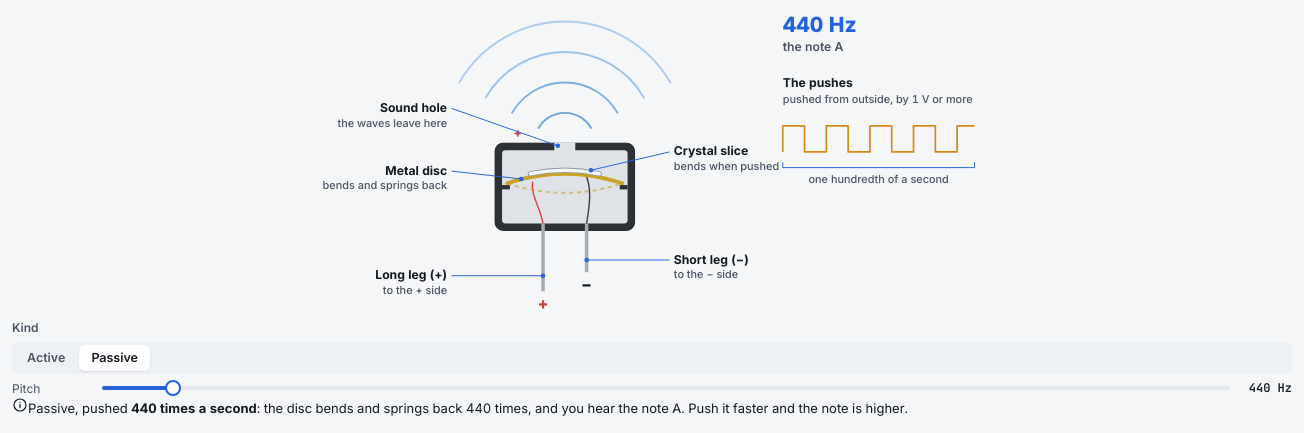
Scenario: the buzzer, cut open › active: its own tiny circuit pushes at the simulator's one pitch, and there is no pitch to slide
Click the radio button labelled "Active" at (46, 358), box [15, 345, 77, 371]
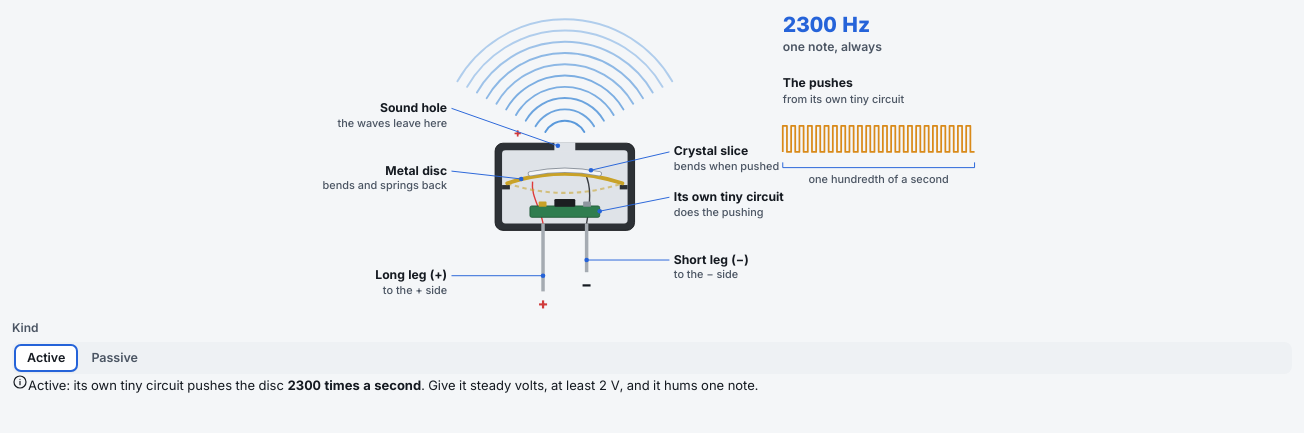
Now the radio button labelled "Active" is checked, box [15, 345, 77, 371]
Now the text "Pitch" is gone
Now the text "2300 times a second" is shown, box [287, 377, 421, 393]
